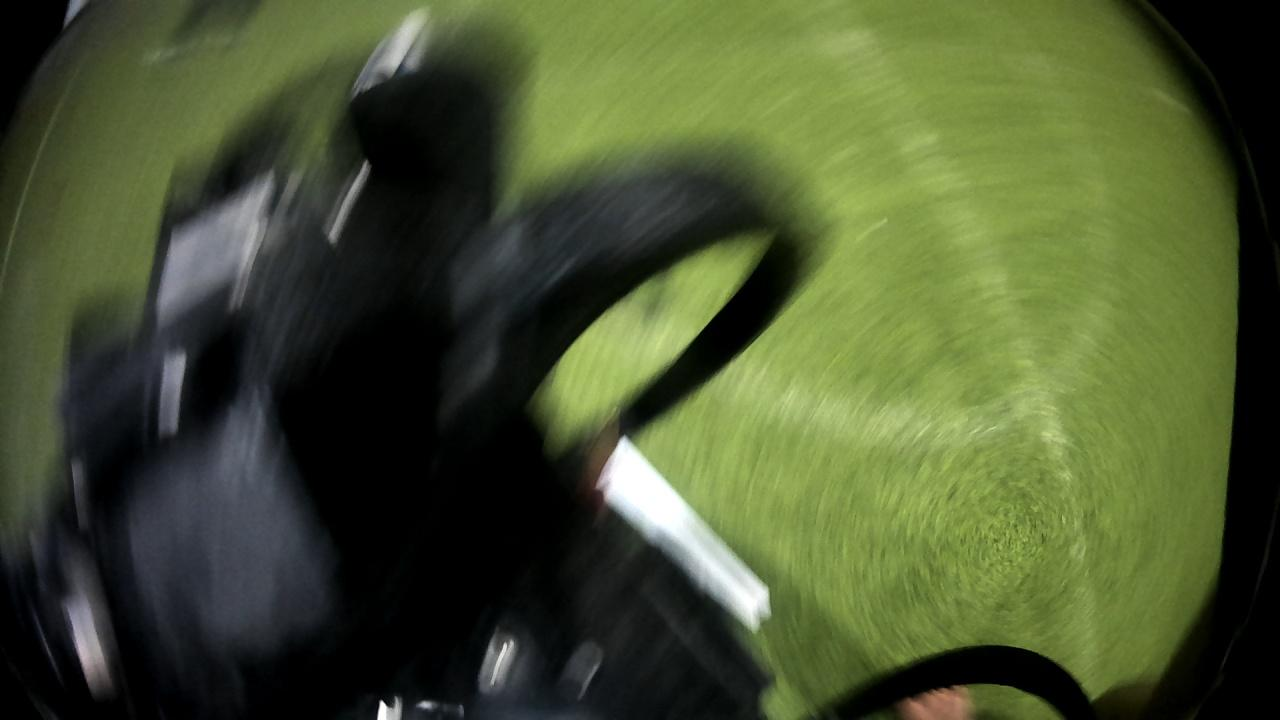ball: (347, 7, 432, 98)
